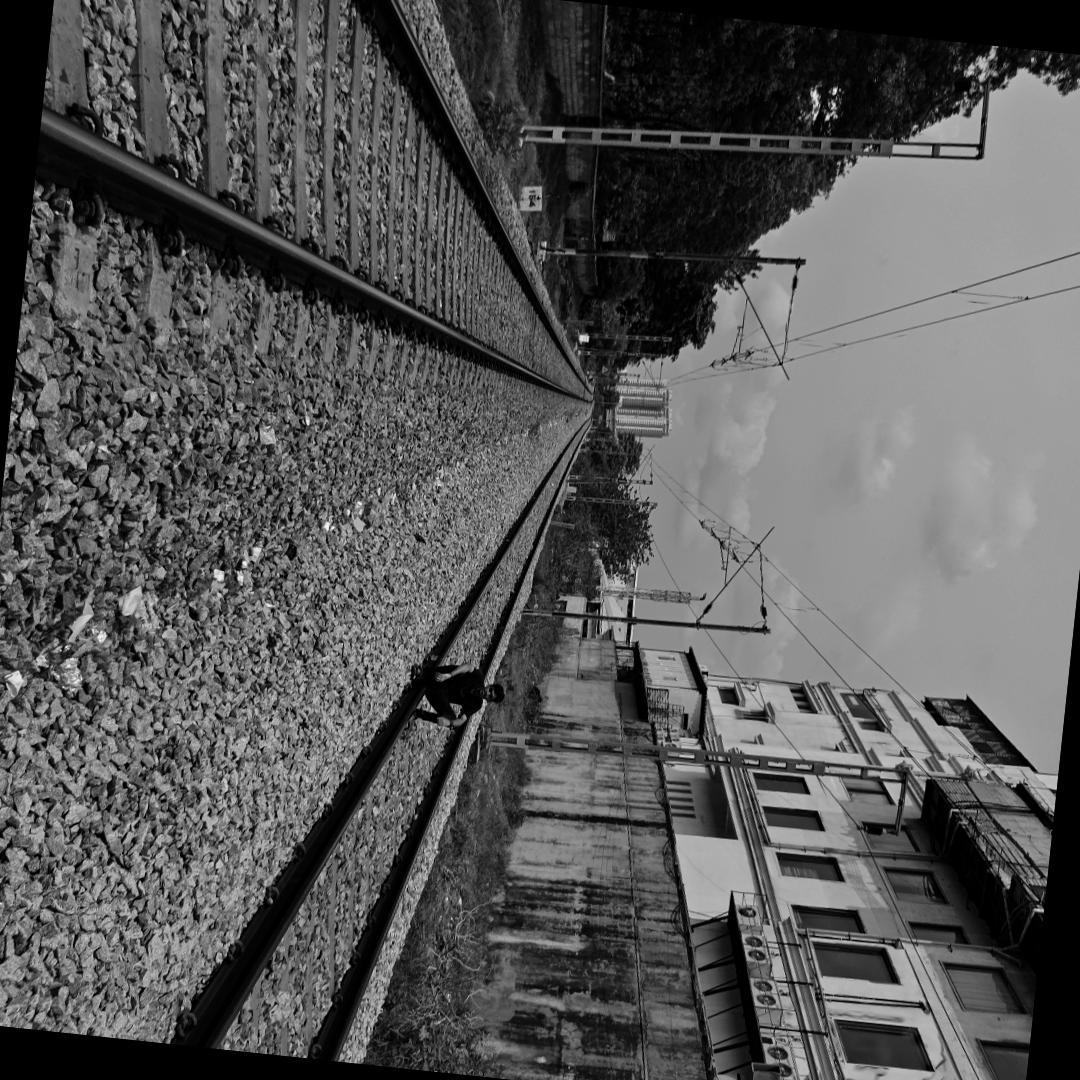sitting: (395, 648, 517, 743)
track: (150, 415, 592, 1062), (40, 0, 594, 408)
